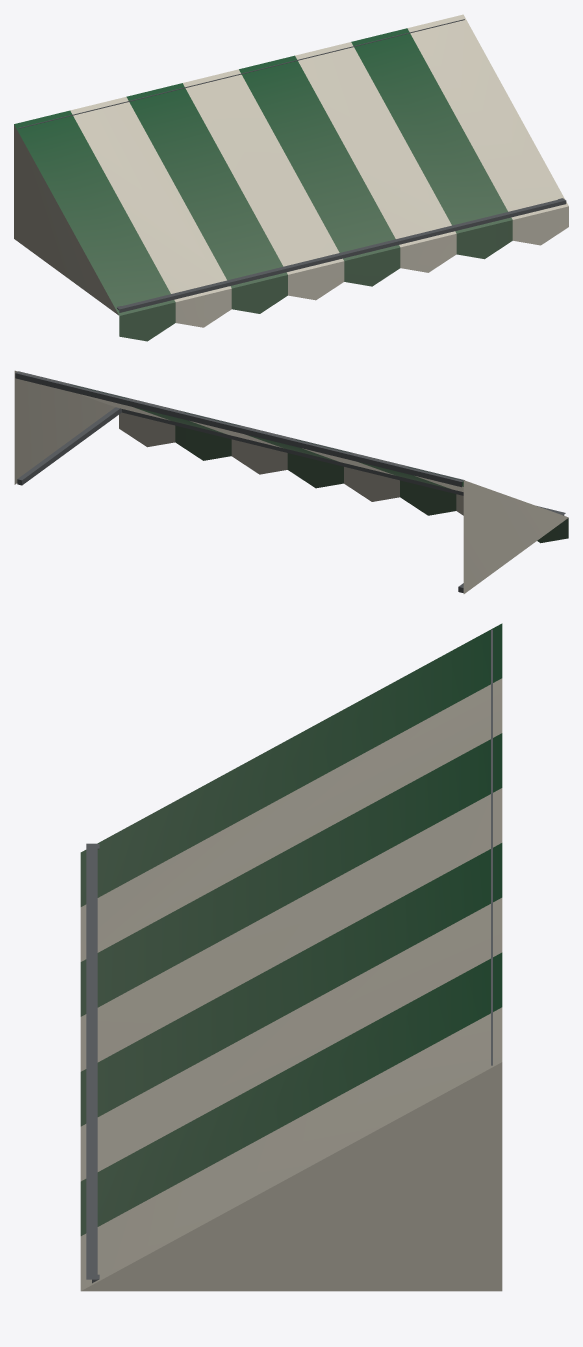
File: shop.awning.green.glb
3 views of the same model, one above another, from view 1: azimuth 30°, elevation 25°; view 2: azimuth 150°, elevation 25°; view 3: azimuth 270°, elevation 25° (orthographic). The views are drawn at different scales.
Parts seen in each view (by area): view 1: shop_awning_green; view 2: shop_awning_green; view 3: shop_awning_green.
Boxes of the visible parts, box(x1,y1,x2,y2) form: shop_awning_green: box(14, 14, 568, 341); shop_awning_green: box(14, 370, 568, 593); shop_awning_green: box(80, 623, 502, 1291).
Size of what is drawn, in the model's own units: 3.2 by 1 by 1.3.
